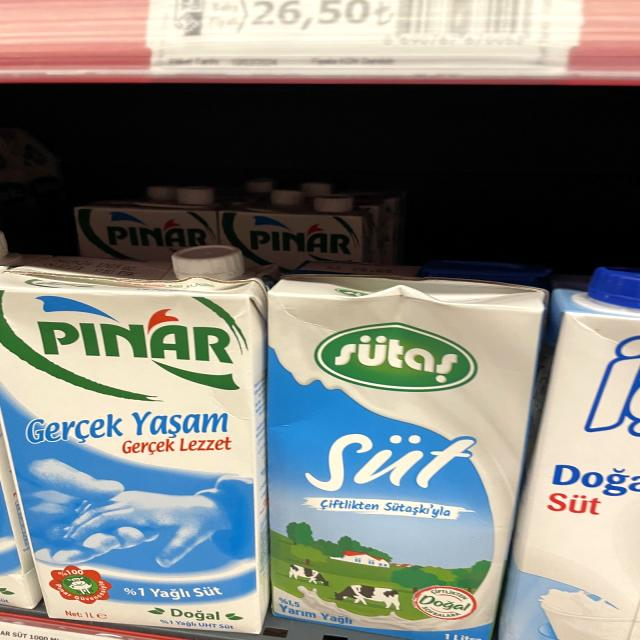milk: (2, 251, 266, 630), (275, 258, 533, 626)
